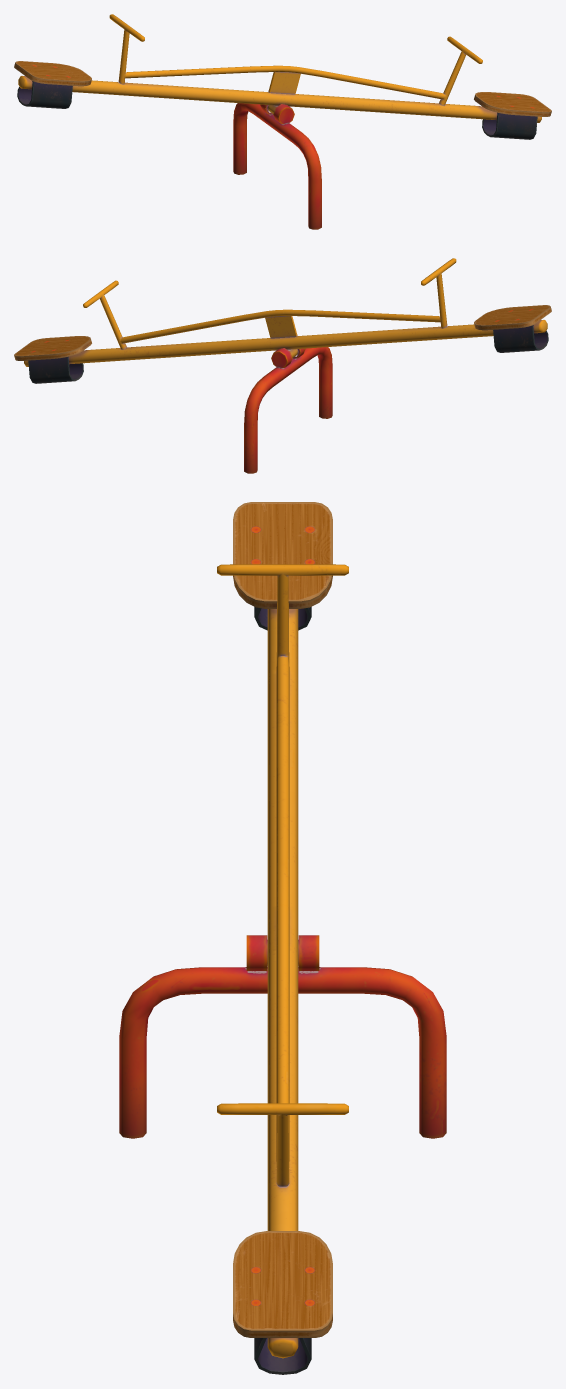
Rendered from swing_balancer.gltf.
3 views of the same model, one above another, from view 1: azimuth 30°, elevation 25°; view 2: azimuth 150°, elevation 25°; view 3: azimuth 270°, elevation 25° (orthographic). The views are drawn at different scales.
Visible parts, largest first — view 1: Fastening, Base, Wood, Rubber; view 2: Fastening, Base, Wood, Rubber; view 3: Fastening, Wood, Base, Rubber.
Boxes of the visible parts, bbox=[...] form: Fastening: bbox=[18, 14, 541, 122]; Base: bbox=[233, 103, 321, 229]; Wood: bbox=[14, 61, 551, 116]; Rubber: bbox=[17, 81, 537, 139]; Fastening: bbox=[24, 258, 547, 366]; Base: bbox=[244, 347, 332, 473]; Wood: bbox=[14, 305, 551, 360]; Rubber: bbox=[28, 325, 548, 383]; Fastening: bbox=[217, 564, 348, 1358]; Wood: bbox=[233, 502, 332, 1337]; Base: bbox=[119, 935, 446, 1138]; Rubber: bbox=[254, 607, 311, 1374].
Bounding box in the file's own units: 2.42 × 0.93 × 0.6549.
Materials: 1 (1 with a texture image).
